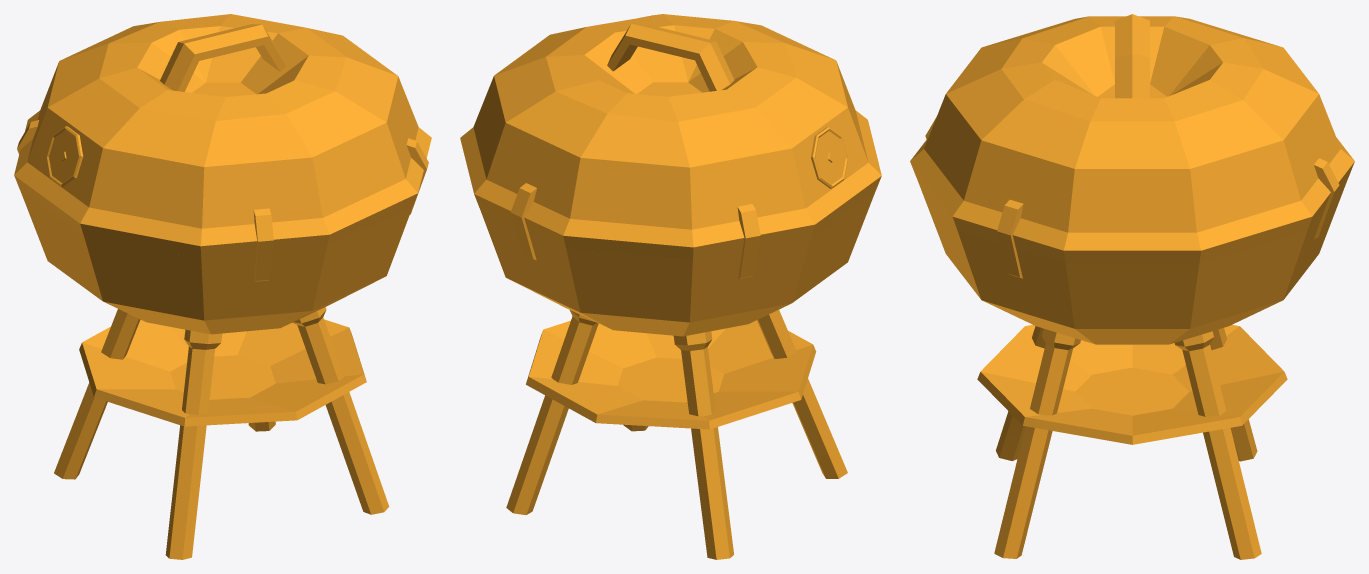
Rendered from SM_Grill_Coal_Small_Short.fbx.
The picture shows the model from 3 angles, left to right: view 1: azimuth 30°, elevation 25°; view 2: azimuth 150°, elevation 25°; view 3: azimuth 270°, elevation 25°; orthographic projection. The views are drawn at different scales.
Visible parts, largest first — view 1: grill-coal-small-short-lid, grill-coal-small-short-base; view 2: grill-coal-small-short-lid, grill-coal-small-short-base; view 3: grill-coal-small-short-lid, grill-coal-small-short-base.
Part boxes in pixels (box(x1,y1,x2,y2)): grill-coal-small-short-lid: box(14, 14, 431, 281); grill-coal-small-short-base: box(20, 190, 412, 559); grill-coal-small-short-lid: box(460, 14, 881, 278); grill-coal-small-short-base: box(480, 191, 875, 559); grill-coal-small-short-lid: box(910, 14, 1354, 278); grill-coal-small-short-base: box(916, 177, 1348, 559).
Bounding box in the file's own units: 0.4775 × 0.5919 × 0.5021.
